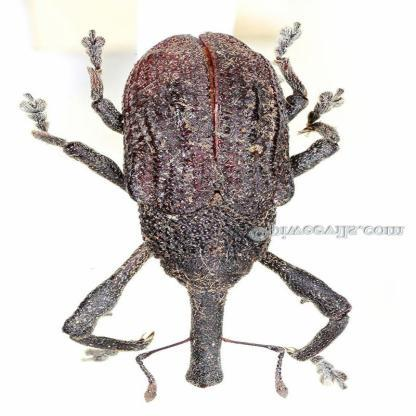rice-bug: (27, 20, 359, 402)
